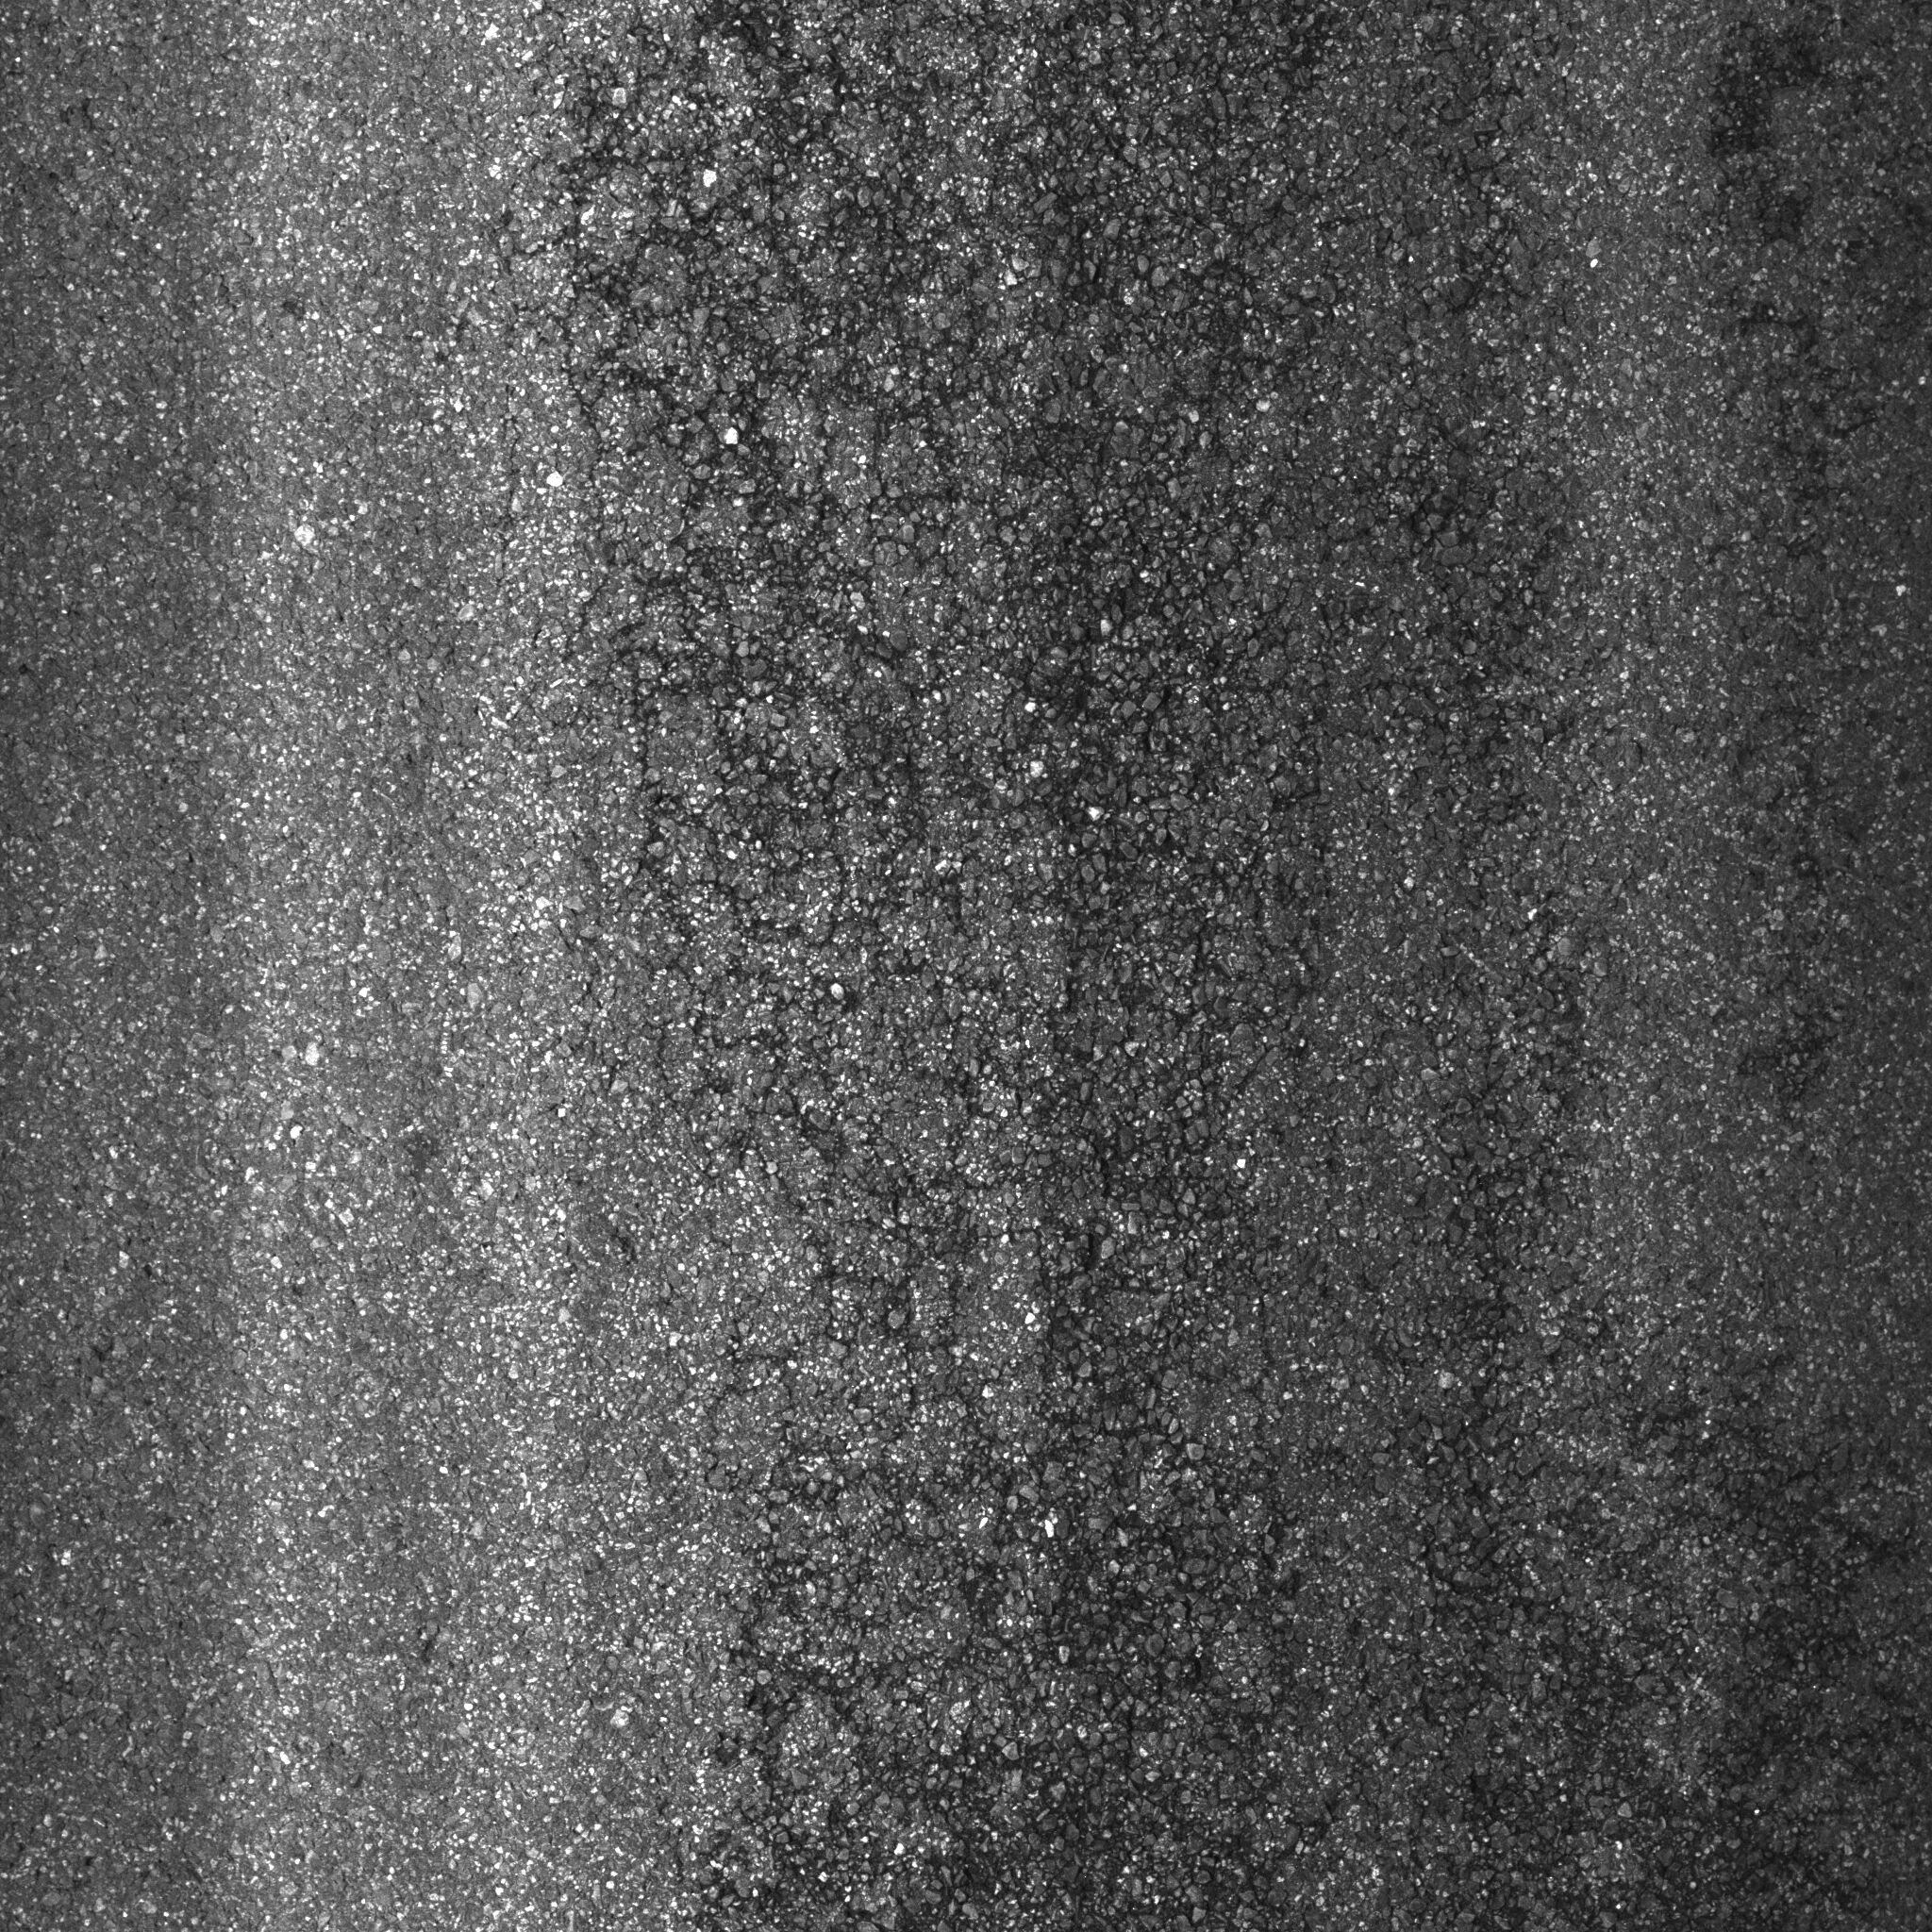alligator: (449, 9, 1902, 1916)
